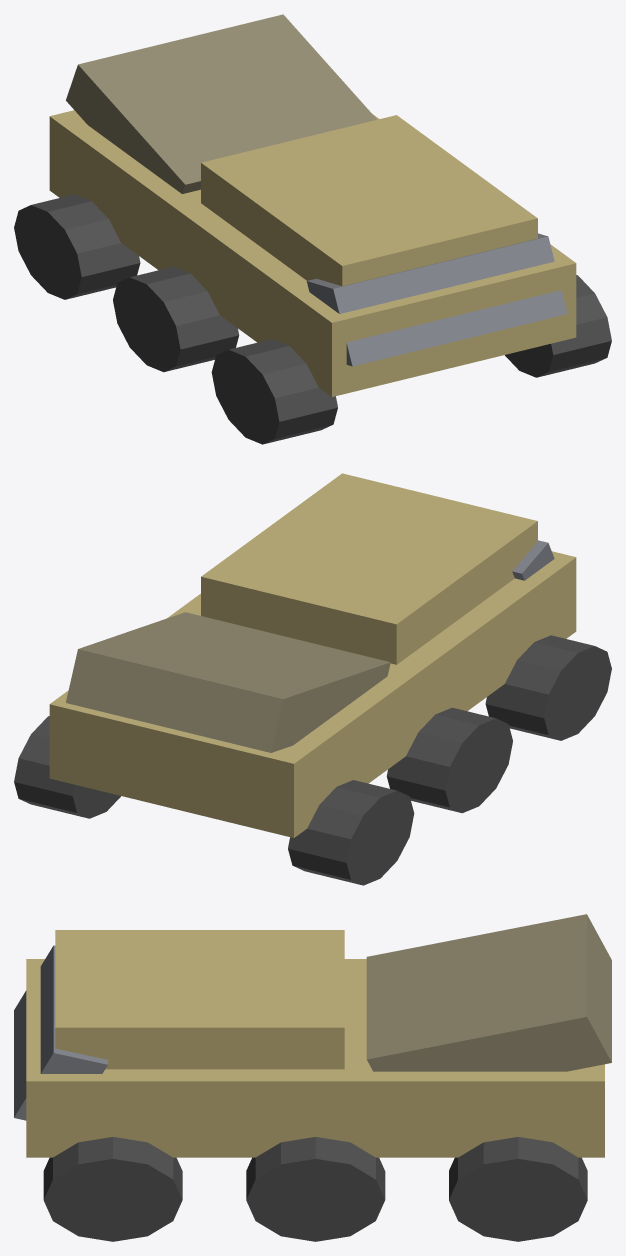
File: dm_apc.glb
3 renders of one model, top to bottom at view 1: azimuth 30°, elevation 25°; view 2: azimuth 150°, elevation 25°; view 3: azimuth 270°, elevation 25°, orthographic. The views are drawn at different scales.
Parts seen in each view (by area): view 1: hull; view 2: hull; view 3: hull.
Boxes of the visible parts, left/top/right/bottom form: hull: left=14, top=14, right=611, bottom=444; hull: left=14, top=473, right=611, bottom=885; hull: left=14, top=914, right=611, bottom=1241.
Bounding box in the file's own units: 0.5924 × 0.3209 × 0.9.
